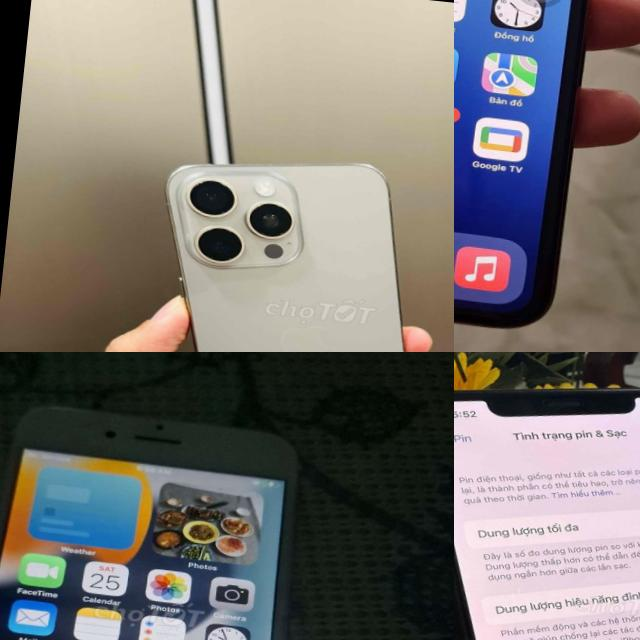gen_11: (454, 0, 625, 333), (454, 389, 640, 640)
gen_15: (115, 139, 454, 352)
gen_6: (0, 386, 327, 640)
